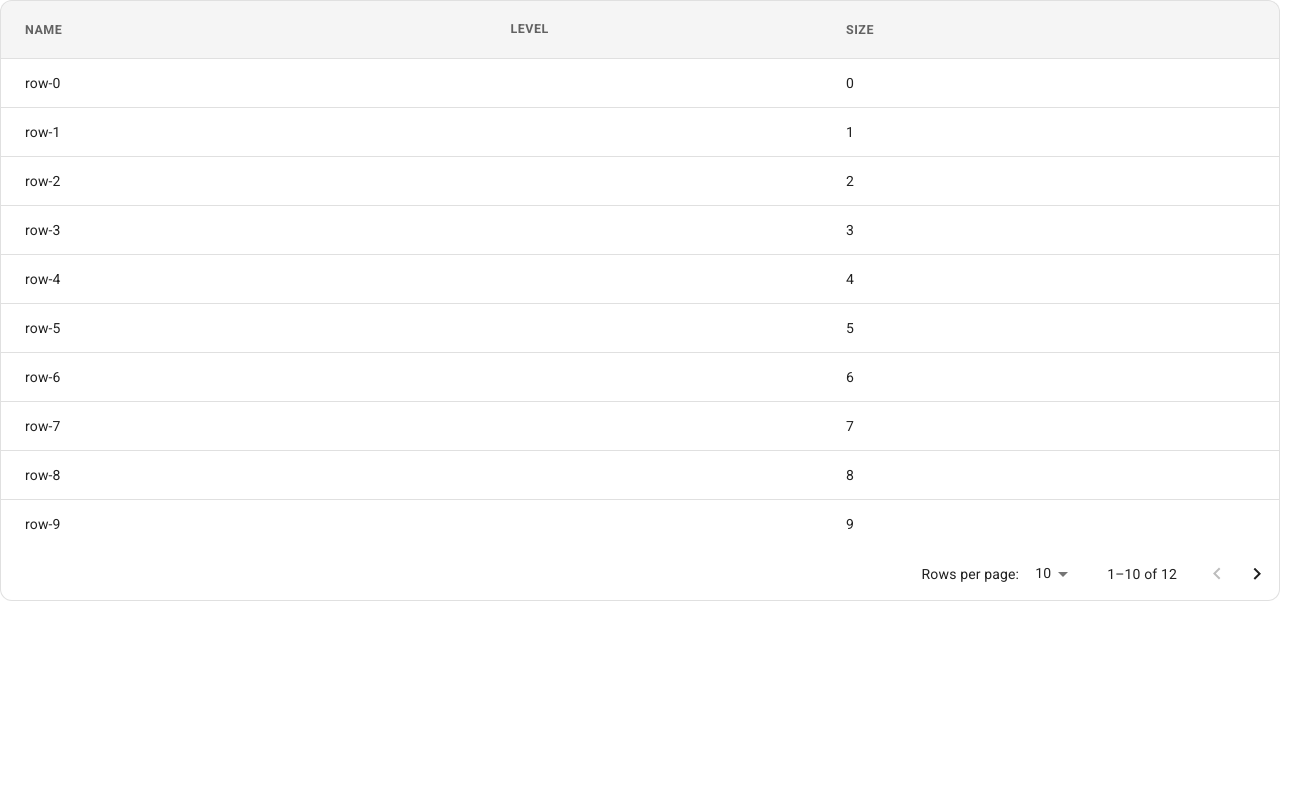
Scenario: DataList › paginates when rows exceed the page size
Click the button named "next page".
click(1257, 574)  # box [1237,554,1277,594]
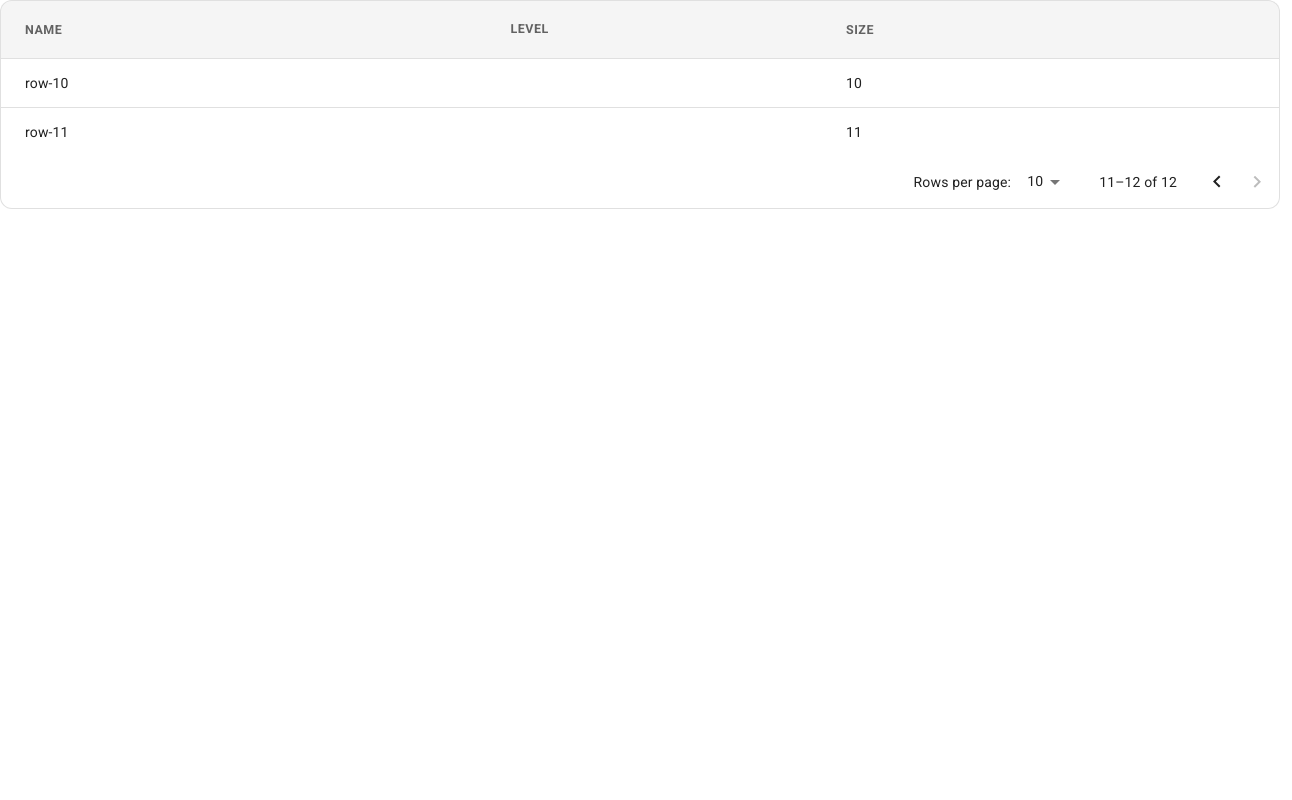
Result: the text "row-11" is shown at [1,107,494,156]
